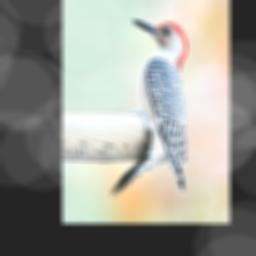Woodpecker: (103, 11, 195, 209)
